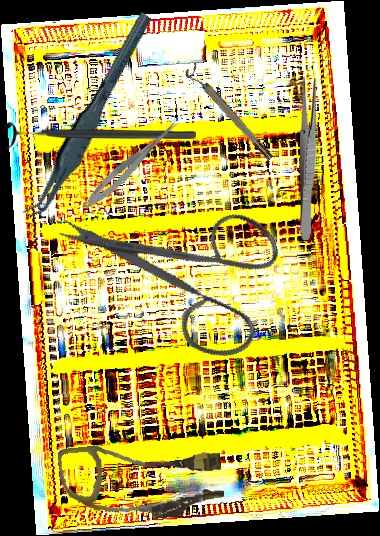Cannula: (57, 432, 226, 529)
Dressing Forceps: (298, 76, 319, 241)
Fixation Ring: (182, 62, 276, 166), (5, 121, 196, 150)
Iris Scissors: (52, 155, 306, 397)
Micro Scissor: (79, 111, 185, 214)
Tissue Forceps: (3, 10, 175, 224)
